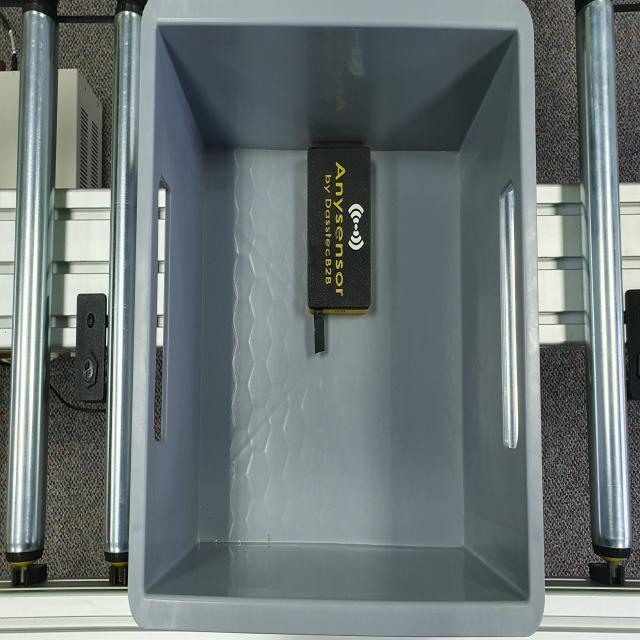box: (306, 144, 373, 314)
